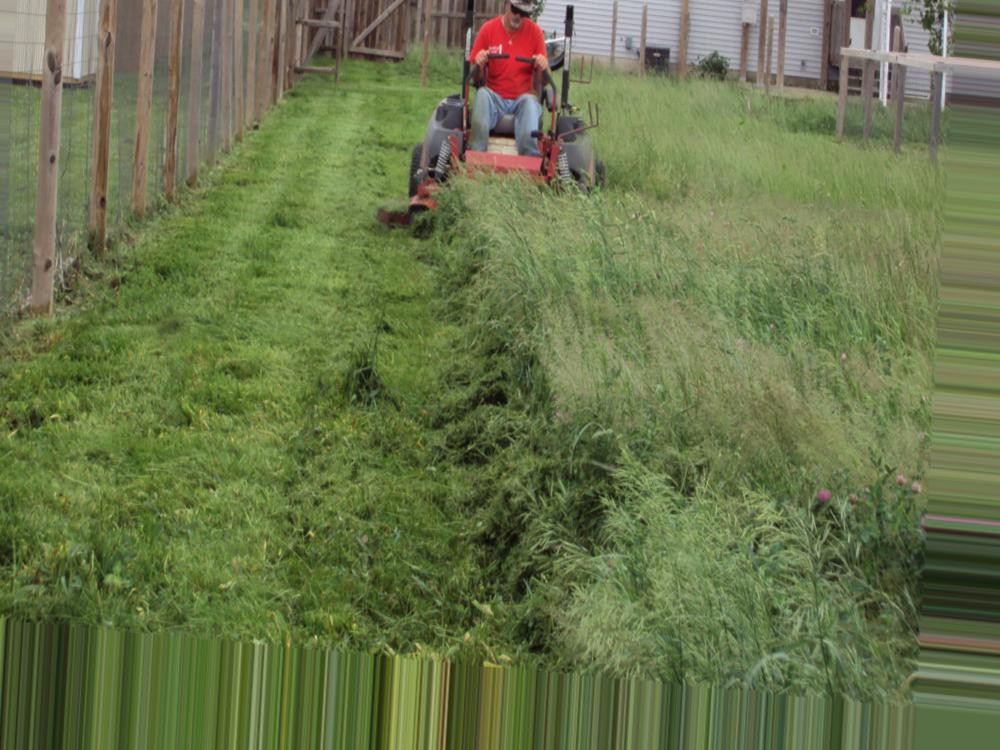patch: (659, 327, 775, 399), (691, 185, 792, 244), (568, 328, 617, 396), (490, 139, 503, 150)
